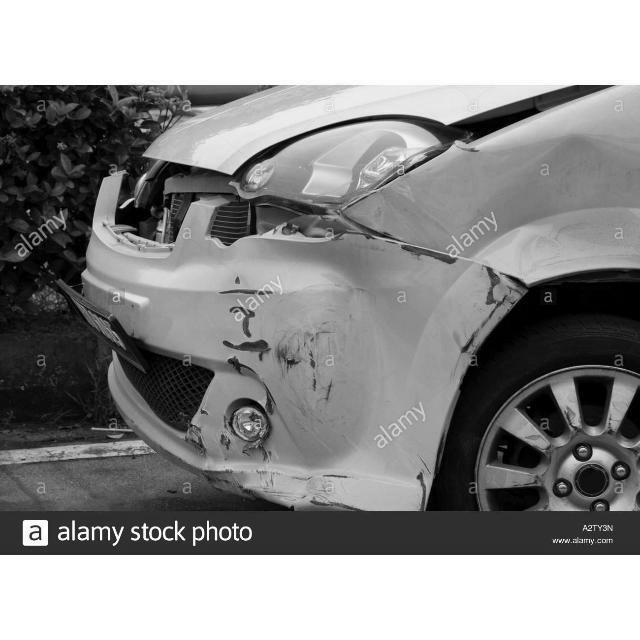fender-dent: (419, 123, 640, 306)
front-bumper-dent: (69, 232, 412, 514)
